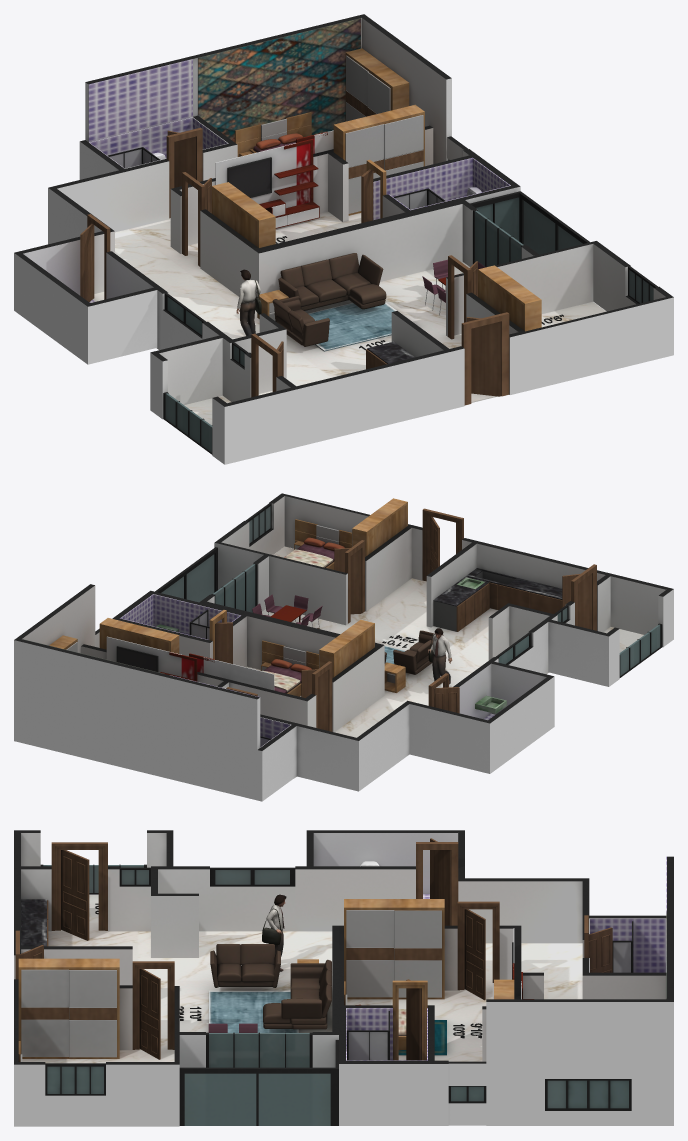
File: floor_plan_2.glb
3 views of the same model, one above another, from view 1: azimuth 30°, elevation 25°; view 2: azimuth 150°, elevation 25°; view 3: azimuth 270°, elevation 25° (orthographic). The views are drawn at different scales.
Parts seen in each view (by area): view 1: Object006_Object006_mtl_0, Object007_Object007_mtl_0 (×2), Object005_Object005_mtl_0, Object008_Object008_mtl_0, Object009_Object009_mtl_0; view 2: Object006_Object006_mtl_0, Object007_Object007_mtl_0 (×2), Object008_Object008_mtl_0, Object009_Object009_mtl_0, Object005_Object005_mtl_0; view 3: Object006_Object006_mtl_0, Object007_Object007_mtl_0 (×2), Object008_Object008_mtl_0, Object009_Object009_mtl_0, Object005_Object005_mtl_0.
Boxes of the visible parts, box(x1,y1,x2,y2) form: Object006_Object006_mtl_0: box(14, 14, 520, 464); Object007_Object007_mtl_0 (×2): box(162, 155, 673, 447); Object005_Object005_mtl_0: box(88, 18, 563, 425); Object008_Object008_mtl_0: box(164, 48, 648, 405); Object009_Object009_mtl_0: box(80, 211, 605, 454); Object006_Object006_mtl_0: box(14, 574, 673, 801); Object007_Object007_mtl_0 (×2): box(116, 493, 612, 697); Object008_Object008_mtl_0: box(49, 498, 596, 731); Object009_Object009_mtl_0: box(246, 546, 662, 778); Object005_Object005_mtl_0: box(23, 594, 548, 747); Object006_Object006_mtl_0: box(14, 830, 673, 1125); Object007_Object007_mtl_0 (×2): box(14, 866, 441, 1126); Object008_Object008_mtl_0: box(15, 842, 631, 1125); Object009_Object009_mtl_0: box(22, 838, 611, 1063); Object005_Object005_mtl_0: box(95, 856, 666, 1060).
Bounding box in the file's own units: 12.38 × 3.07 × 14.72.
Materials: 5 (5 with a texture image).
